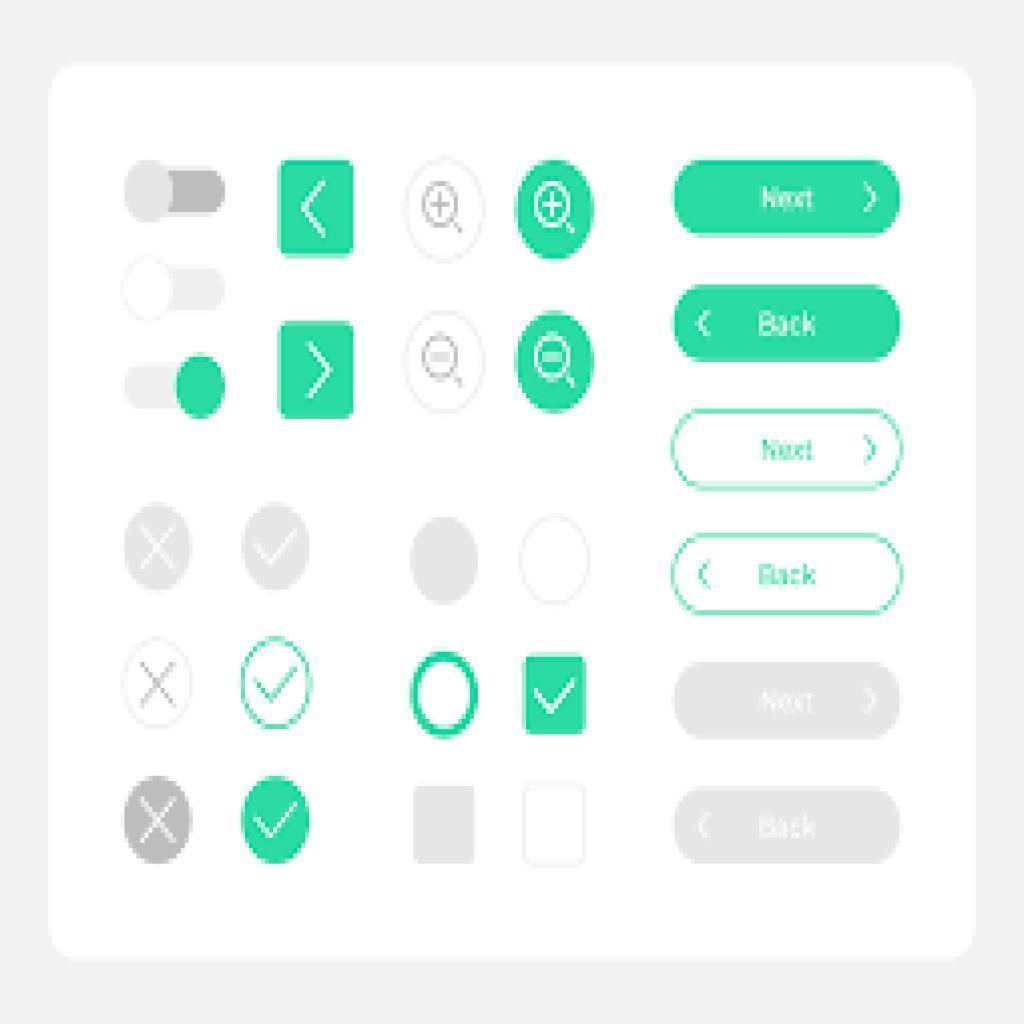button: (671, 406, 906, 493), (672, 532, 903, 615), (672, 284, 901, 365), (672, 157, 900, 238), (672, 786, 902, 865), (674, 663, 902, 739)
checkbox: (230, 768, 319, 874), (233, 634, 314, 735), (238, 499, 309, 597), (118, 500, 196, 588), (119, 772, 194, 863), (124, 636, 193, 733), (521, 783, 584, 870), (522, 654, 585, 736), (415, 787, 474, 866)
icon: (417, 174, 477, 246), (414, 333, 470, 400), (290, 327, 337, 406), (527, 178, 583, 241), (528, 331, 581, 395), (291, 176, 335, 240)
radio: (513, 509, 594, 614), (407, 514, 485, 613), (408, 647, 485, 741)
switch: (105, 342, 245, 427), (115, 249, 233, 330), (118, 149, 233, 232)
